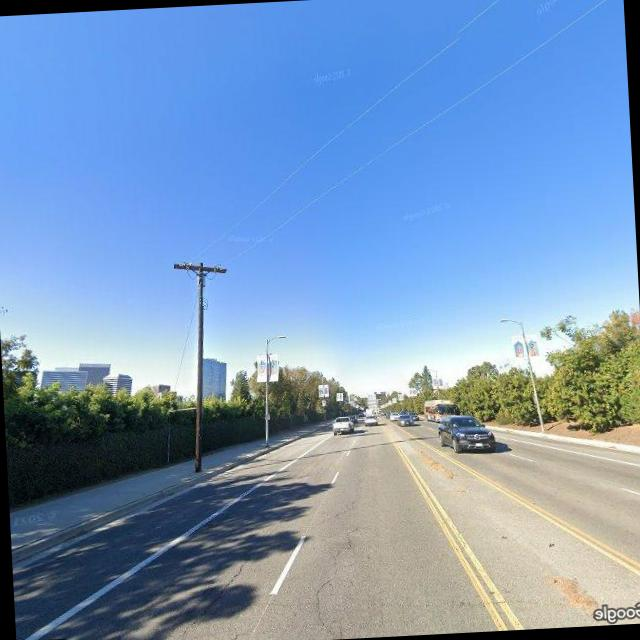pothole: (164, 550, 255, 640), (308, 522, 364, 638)
